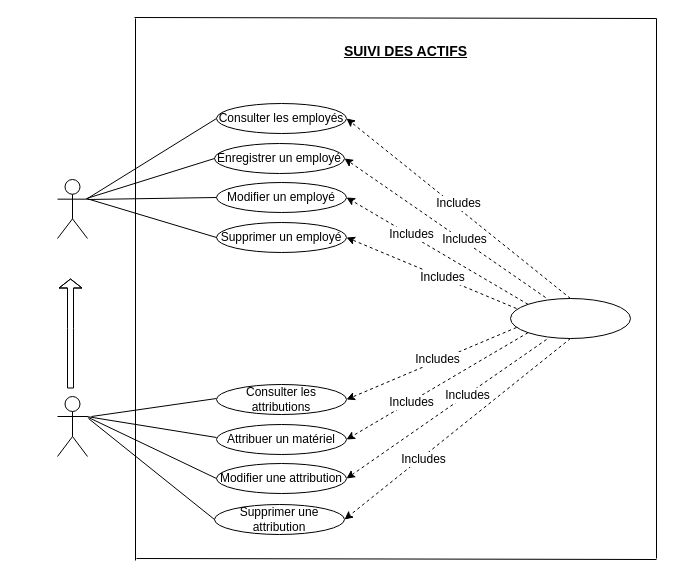
Some shapes in this 675 by 579 pixel diagram are drawn without their labels. The shapes that lost their labels are listed below. From the top down, each one's centre as x and y in pixels, then its label:
At point 72,208: "TECHNICIEN INFRASTRUCTURE".
At point 570,318: "S'authentifier".
At point 72,426: "RESPONSABLE INFRASTRUCTURE".
